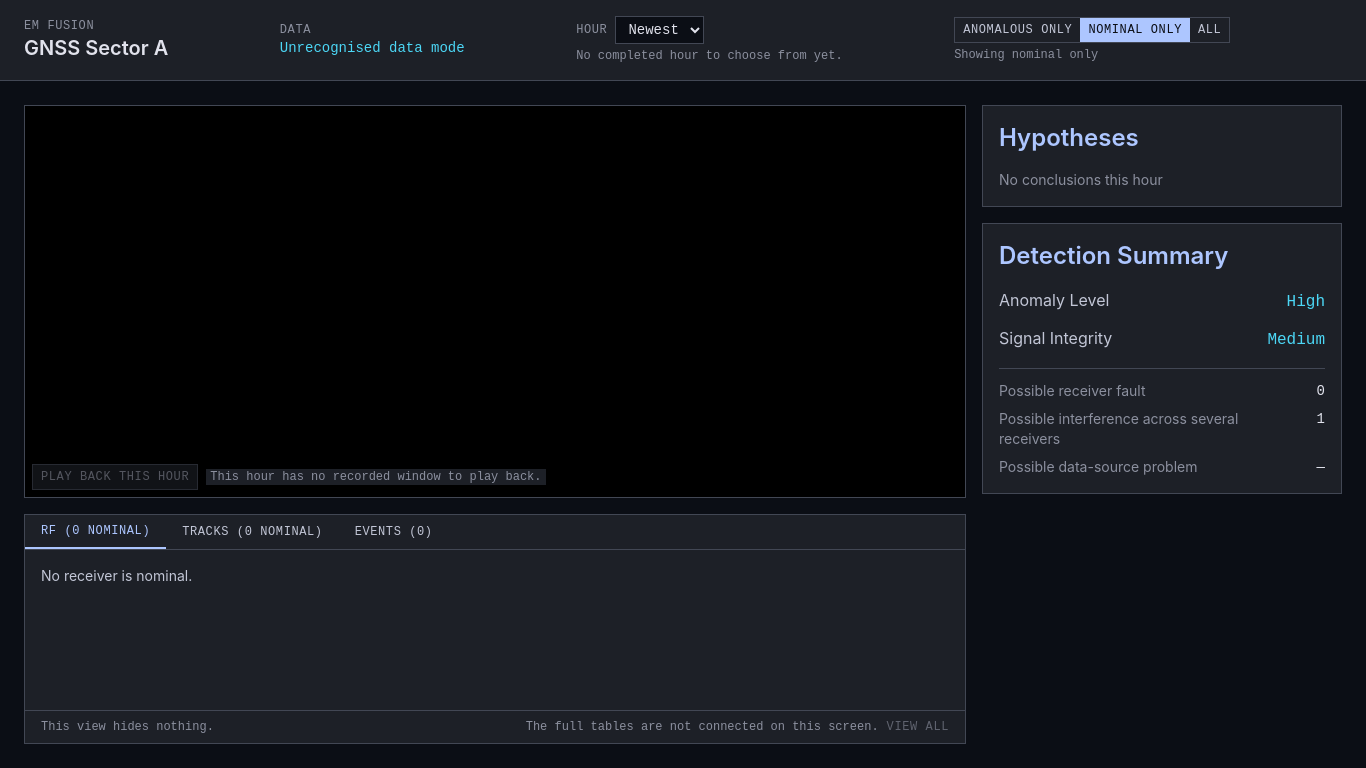
it: what the timeline says when the view empties it › pluralises the count
Click the tab "Events (0)": (394, 532) [339,515,449,549]
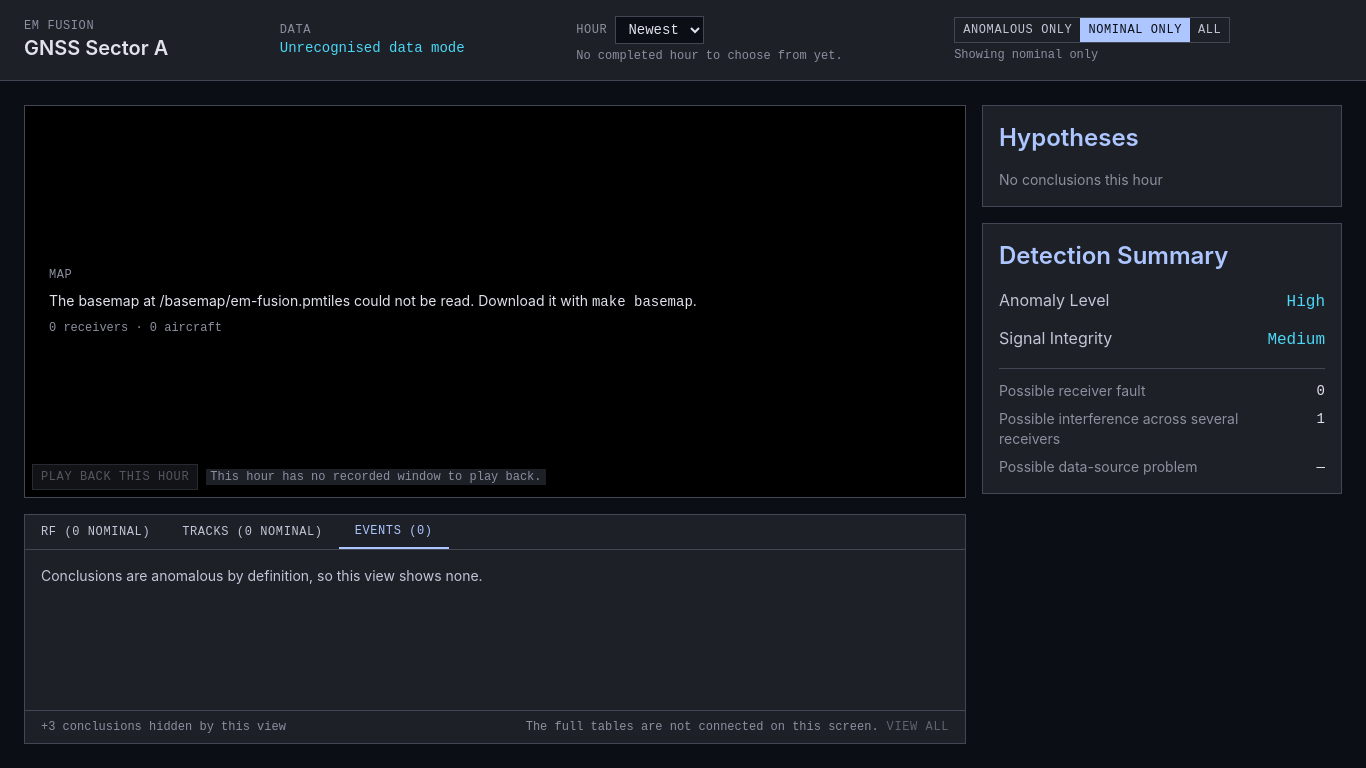
expect the text "+3 conclusions hidden by this view" is shown: met, box [41,719,286,735]
